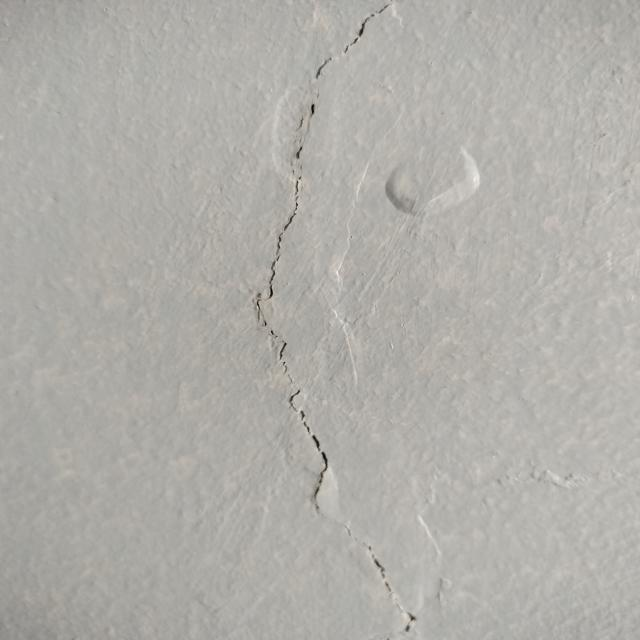Crack: (247, 2, 426, 638)
